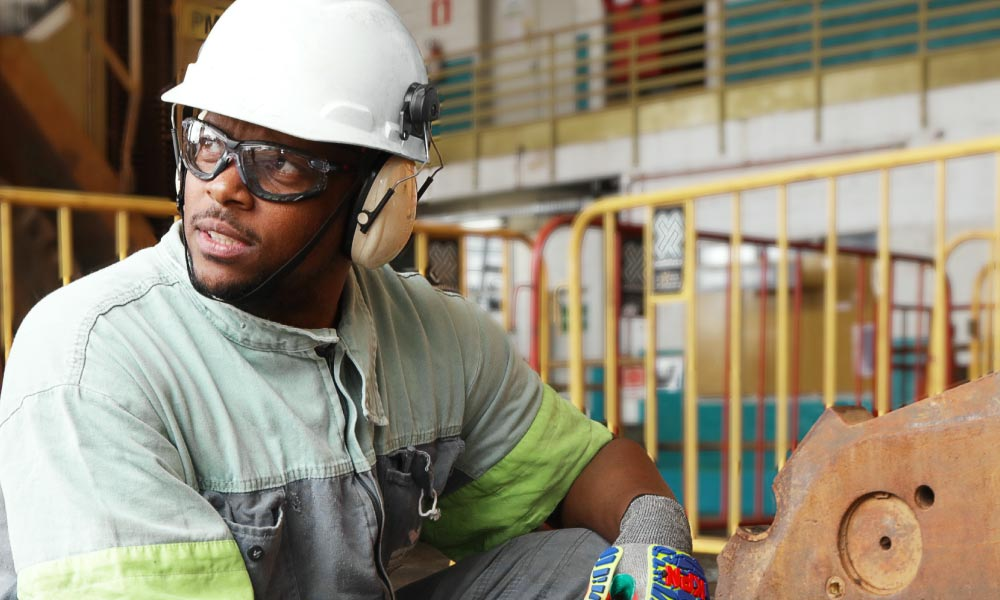Casco de seguridad: (161, 0, 428, 162)
